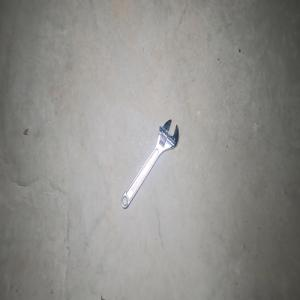Wrench: (120, 118, 179, 209)
